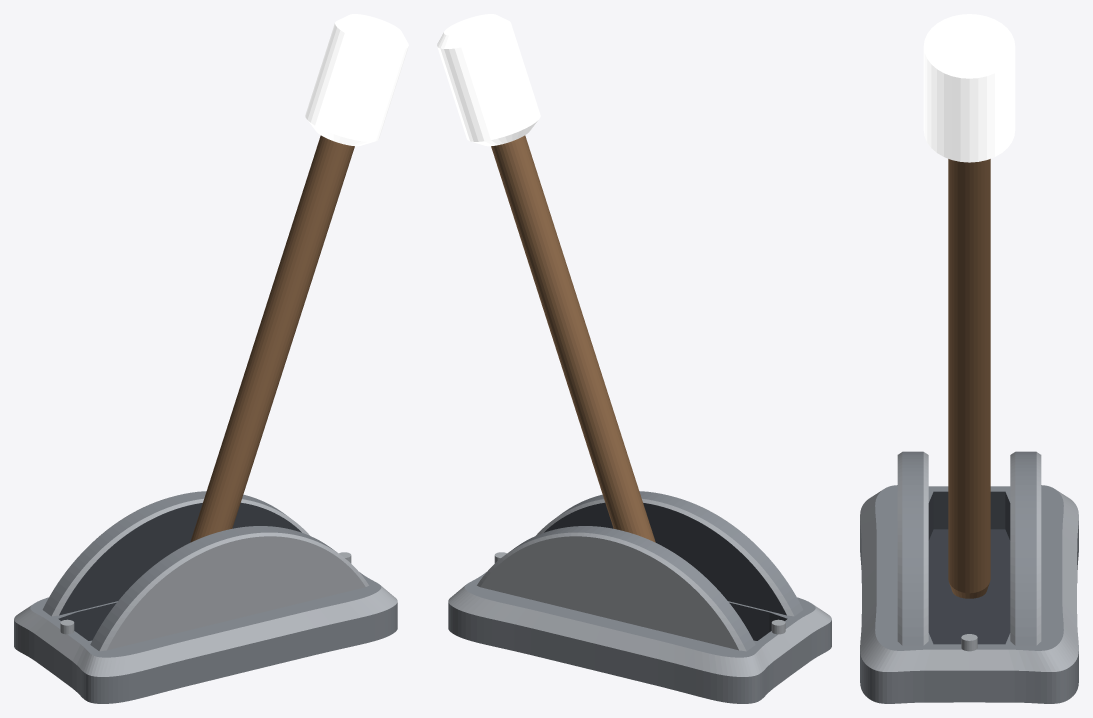
File: lever_on.glb
3 renders of one model, left to right at view 1: azimuth 30°, elevation 25°; view 2: azimuth 150°, elevation 25°; view 3: azimuth 270°, elevation 25°, orthographic. The views are drawn at different scales.
Visible parts, largest first — view 1: lever_on; view 2: lever_on; view 3: lever_on.
Part boxes in pixels (x1,y1,x2,y2): lever_on: [14, 14, 408, 703]; lever_on: [437, 14, 831, 703]; lever_on: [860, 14, 1078, 703].
Bounding box in the file's own units: 0.5881 × 0.9243 × 0.2677.
